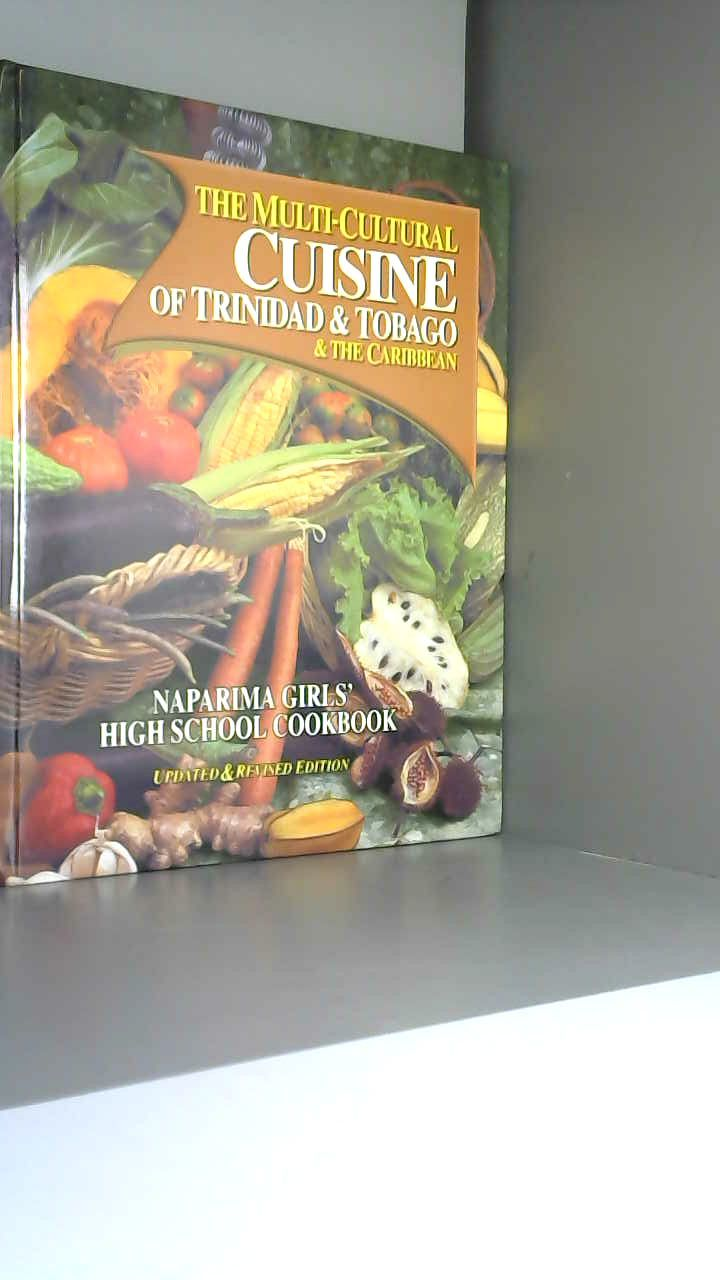book: (0, 56, 552, 902)
